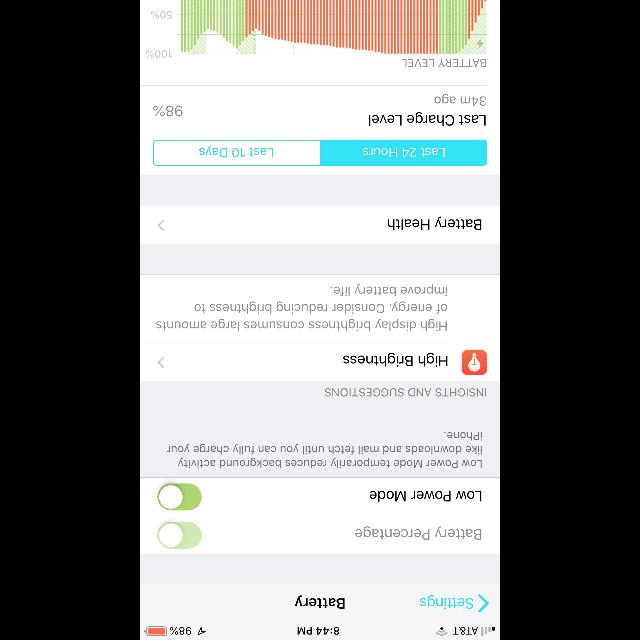icon: (478, 594, 488, 612), (158, 220, 165, 232), (158, 358, 164, 368)
image: (145, 0, 487, 58), (462, 350, 486, 374)
switch: (158, 484, 202, 511), (158, 522, 202, 548)
text: (156, 284, 448, 332), (166, 432, 482, 468), (355, 526, 481, 540), (368, 112, 486, 126), (343, 352, 447, 366), (387, 216, 481, 230), (324, 388, 486, 396), (370, 491, 482, 502), (420, 595, 472, 609), (402, 59, 486, 67), (434, 94, 486, 106), (295, 596, 345, 608), (154, 105, 182, 116)
textbutton: (153, 140, 320, 166), (320, 140, 486, 166)
uppertaskbar: (140, 626, 500, 640)
